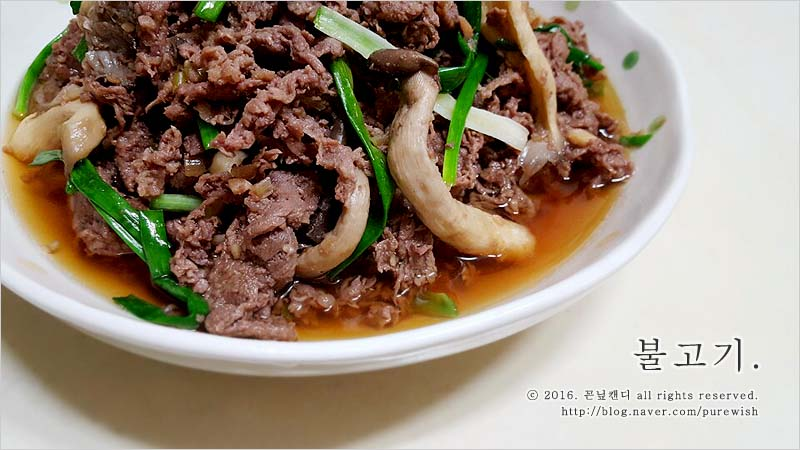bulgogi: (9, 2, 652, 340)
